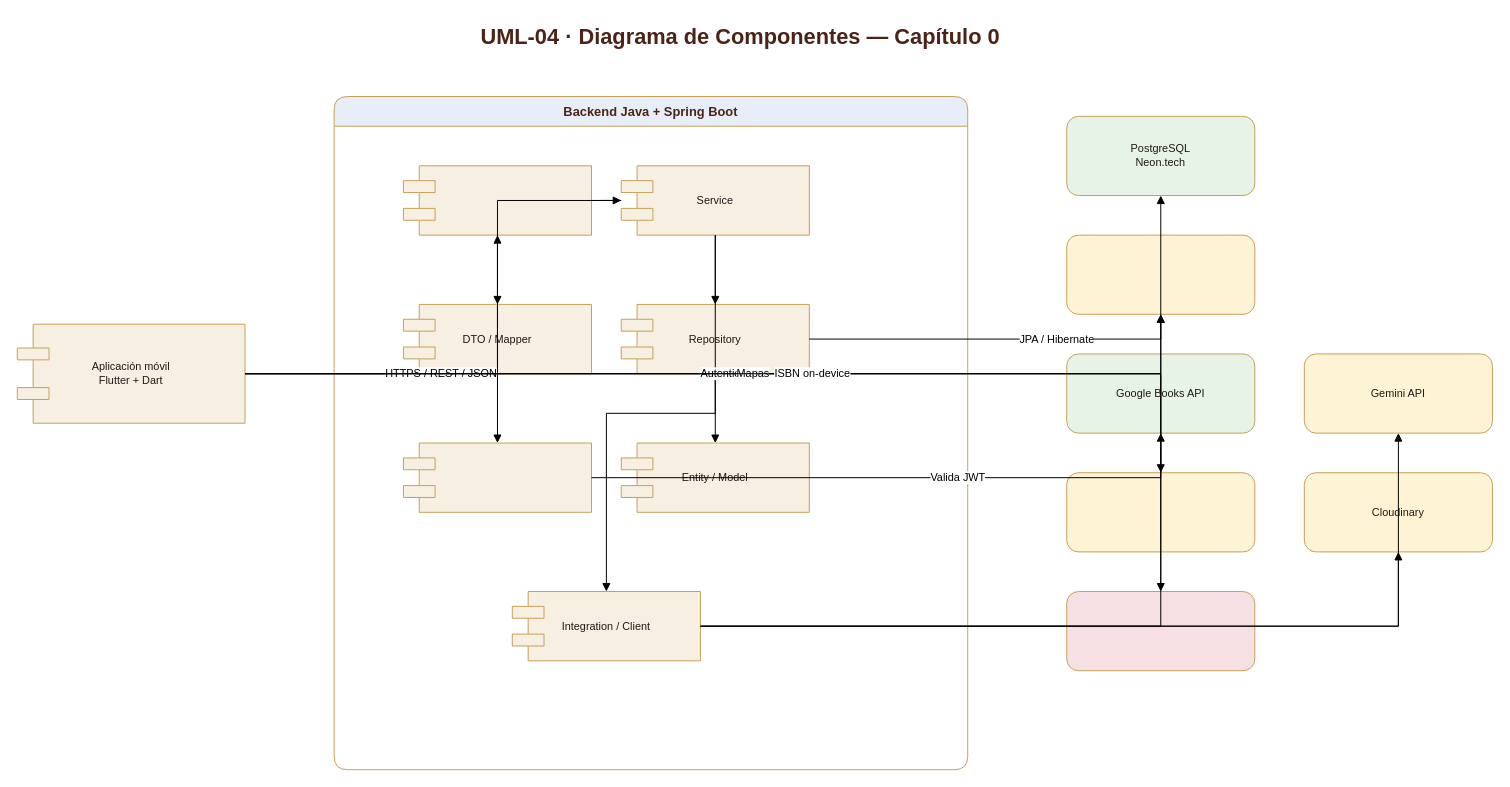
The diagram is 1510 pixels wide and 787 high, and some of its shapes have lost their labels. Each missing label, with the box of its shape:
Controller: (402, 165, 592, 235)
Firebase Authentication: (1066, 234, 1255, 314)
Google Maps Flutter: (1066, 472, 1255, 552)
Google ML Kit: (1066, 591, 1255, 671)
Security: (402, 442, 592, 512)
